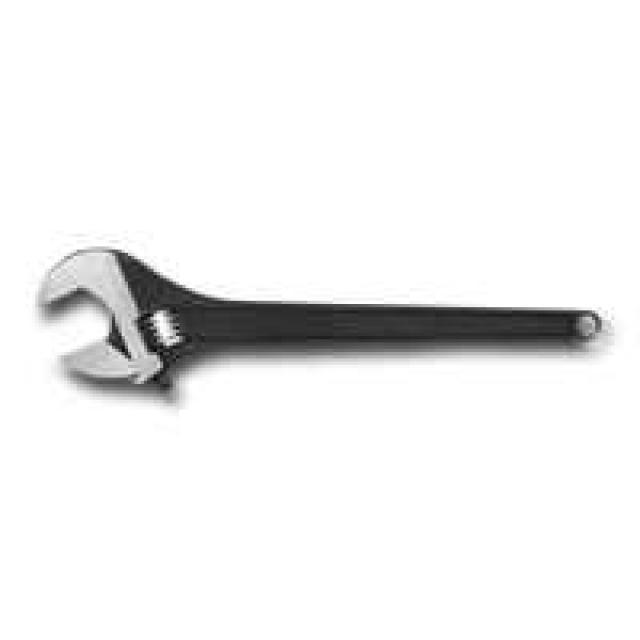wrench: (26, 240, 612, 407)
